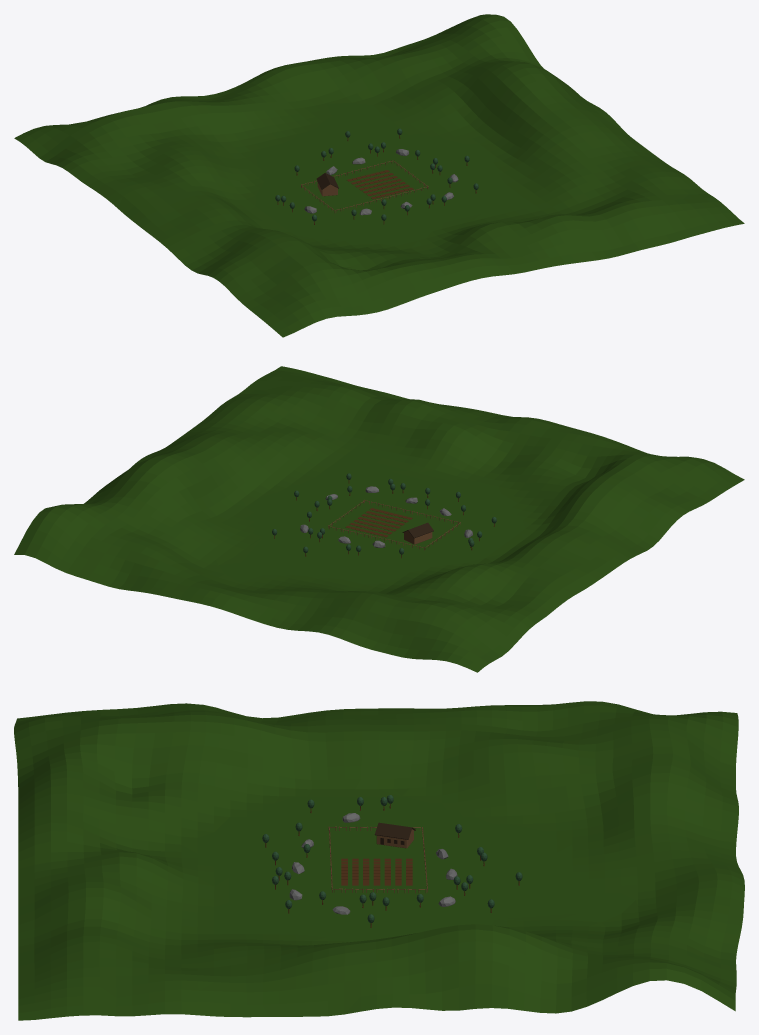
The model's file is Garden.gltf.
The picture shows the model from 3 angles, top to bottom: view 1: azimuth 30°, elevation 25°; view 2: azimuth 150°, elevation 25°; view 3: azimuth 270°, elevation 25°; orthographic projection. The views are drawn at different scales.
Parts seen in each view (by area): view 1: Ground, Crops; view 2: Ground, Crops; view 3: Ground, Crops.
Boxes of the visible parts, <box> form: Ground: <box>14,14,744,337</box>; Crops: <box>347,170,413,199</box>; Ground: <box>14,366,744,672</box>; Crops: <box>345,508,412,537</box>; Ground: <box>14,701,744,1020</box>; Crops: <box>341,858,412,885</box>.
Size of the model in its own units: 202 by 20.45 by 204.
